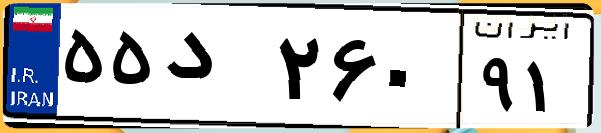0: (385, 28, 445, 110)
1: (525, 38, 570, 115)
2: (270, 28, 330, 110)
5: (57, 26, 110, 100), (110, 28, 158, 98)
6: (330, 28, 385, 110)
9: (475, 38, 525, 113)
د: (158, 20, 270, 120)
